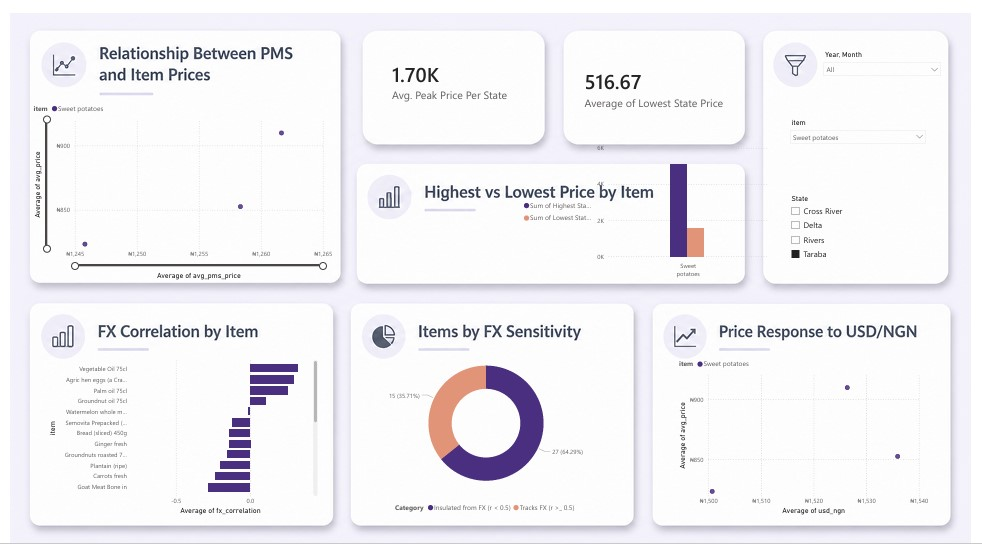

This screenshot's page, from the dashboard's own definition file:
{"tool":"powerbi","page":{"name":"Item Deep Dive","canvas":[1920,1080],"ordinal":1},"visuals":[{"type":"scatterChart","fields":{"X":["Avg(AnalysisTable.usd_ngn)"],"Y":["Avg(AnalysisTable.avg_price)"],"Category":["AnalysisTable.date.Variation.Date Hierarchy.Month"],"Series":["AnalysisTable.item"]},"box":[1330.9,684.2,509,325.8],"z":0},{"type":"slicer","fields":{"Values":["AnalysisTable.item"]},"box":[1547.5,207.5,292.5,120],"z":1000},{"type":"scatterChart","fields":{"Category":["AnalysisTable.date.Variation.Date Hierarchy.Month"],"X":["Avg(AnalysisTable.avg_pms_price)"],"Y":["Avg(AnalysisTable.avg_price)"],"Series":["AnalysisTable.item"]},"box":[40,172.5,607.5,367.5],"z":2000},{"type":"clusteredBarChart","fields":{"Category":["fx_correlation.item"],"Y":["Avg(fx_correlation.fx_correlation)"]},"box":[70.2,684.2,548,325.8],"z":3000},{"type":"donutChart","fields":{"Category":["DonutTable.Category"],"Y":["Sum(DonutTable.Count)"]},"box":[701.2,664,497.7,346],"z":5000},{"type":"slicer","fields":{"Values":["AnalysisTable.Highest State"]},"box":[1547.8,356.5,291.3,256.5],"z":6000},{"type":"cardVisual","fields":{"Data":["Avg(AnalysisTable.Highest State Price)"]},"box":[732.5,22.5,385,230],"z":7000},{"type":"slicer","fields":{"Values":["AnalysisTable.date.Variation.Date Hierarchy.Year","AnalysisTable.date.Variation.Date Hierarchy.Month"]},"box":[1615,72.5,255,130],"z":8000},{"type":"cardVisual","fields":{"Data":["Avg(AnalysisTable.Lowest State Price)"]},"box":[1117.5,40,360,227.5],"z":9000},{"type":"clusteredColumnChart","fields":{"Category":["AnalysisTable.item"],"Y":["Sum(AnalysisTable.Highest State Price)","Sum(AnalysisTable.Lowest State Price)"]},"box":[1020,257.5,497.5,282.5],"z":10000}]}

Visuals, with their boxes in screenshot pixels (x1, y1, x2, y2), scaled from the page's 1920x1080 canvas onto the 982x544 screenshot:
scatterChart - Avg(AnalysisTable.usd_ngn) x Avg(AnalysisTable.avg_price): x1=681 y1=345 x2=941 y2=509
slicer - AnalysisTable.item: x1=791 y1=105 x2=941 y2=165
scatterChart - AnalysisTable.date.Variation.Date Hierarchy.Month x Avg(AnalysisTable.avg_pms_price): x1=20 y1=87 x2=331 y2=272
clusteredBarChart - fx_correlation.item x Avg(fx_correlation.fx_correlation): x1=36 y1=345 x2=316 y2=509
donutChart - DonutTable.Category x Sum(DonutTable.Count): x1=359 y1=334 x2=613 y2=509
slicer - AnalysisTable.Highest State: x1=792 y1=180 x2=941 y2=309
cardVisual - Avg(AnalysisTable.Highest State Price): x1=375 y1=11 x2=572 y2=127
slicer - AnalysisTable.date.Variation.Date Hierarchy.Year x AnalysisTable.date.Variation.Date Hierarchy.Month: x1=826 y1=37 x2=956 y2=102
cardVisual - Avg(AnalysisTable.Lowest State Price): x1=572 y1=20 x2=756 y2=135
clusteredColumnChart - AnalysisTable.item x Sum(AnalysisTable.Highest State Price): x1=522 y1=130 x2=776 y2=272
